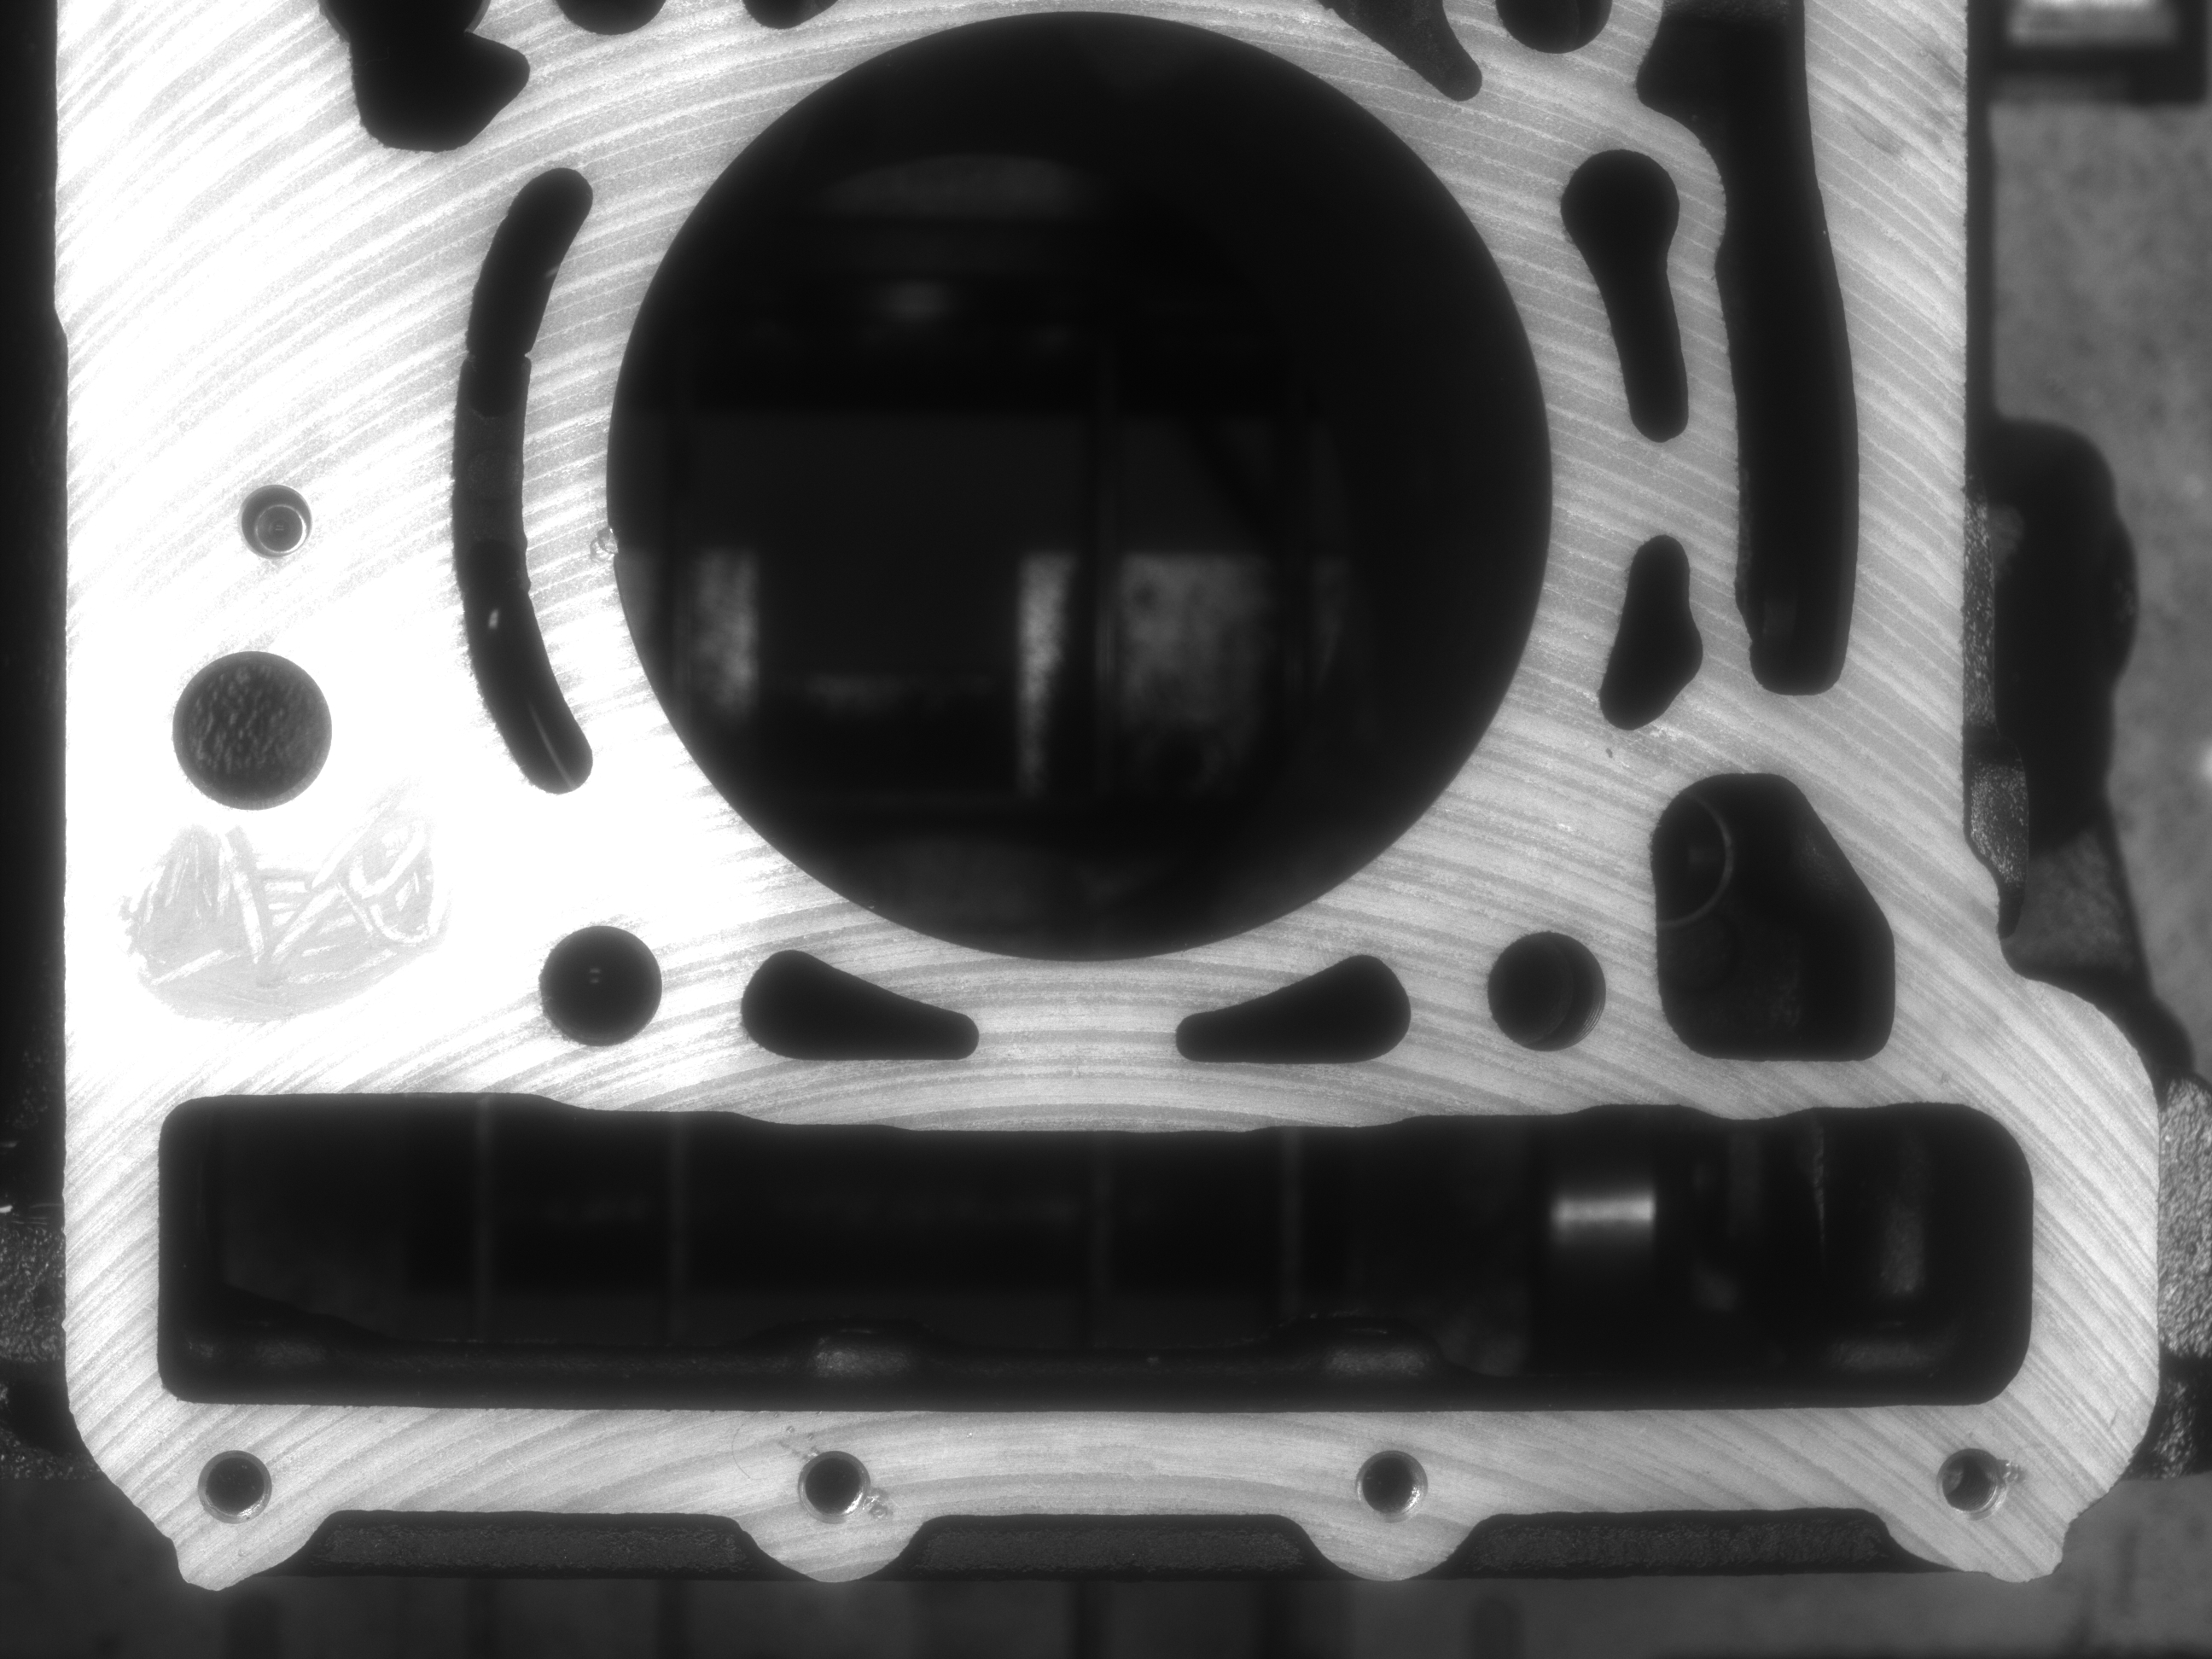dirty: (145, 812, 465, 1021)
shrinkage: (855, 1488, 897, 1525)
